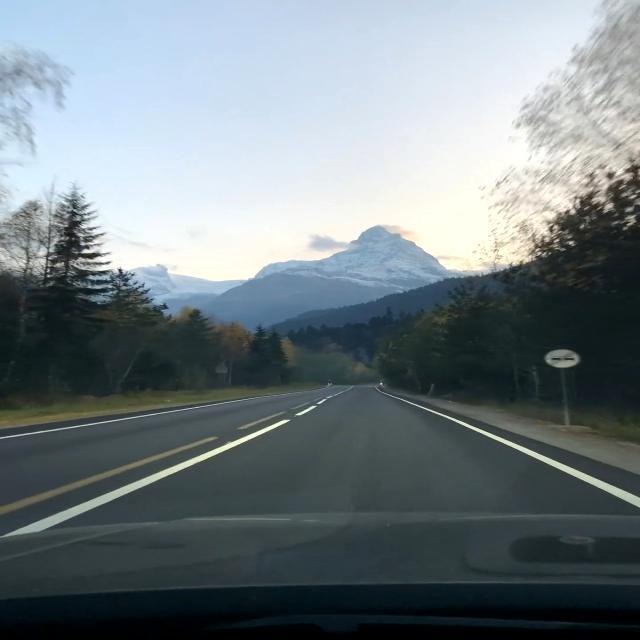lane: (4, 419, 291, 536), (376, 388, 640, 507)
road: (0, 385, 638, 640)
